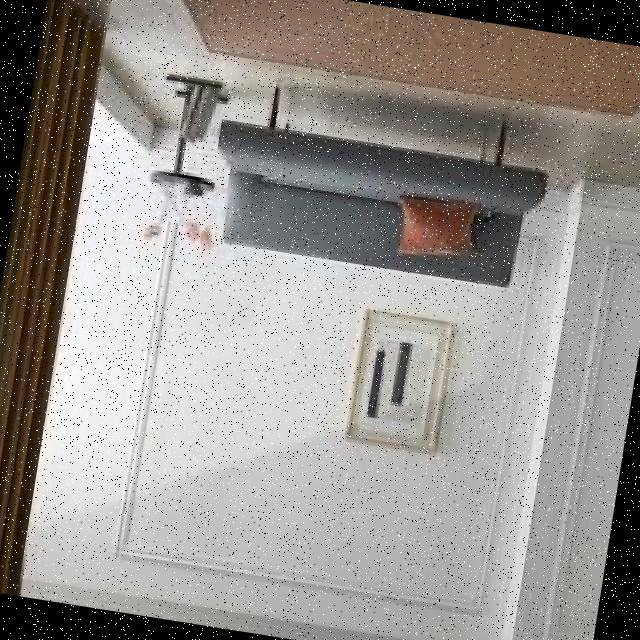Sofa: (191, 62, 586, 328)
